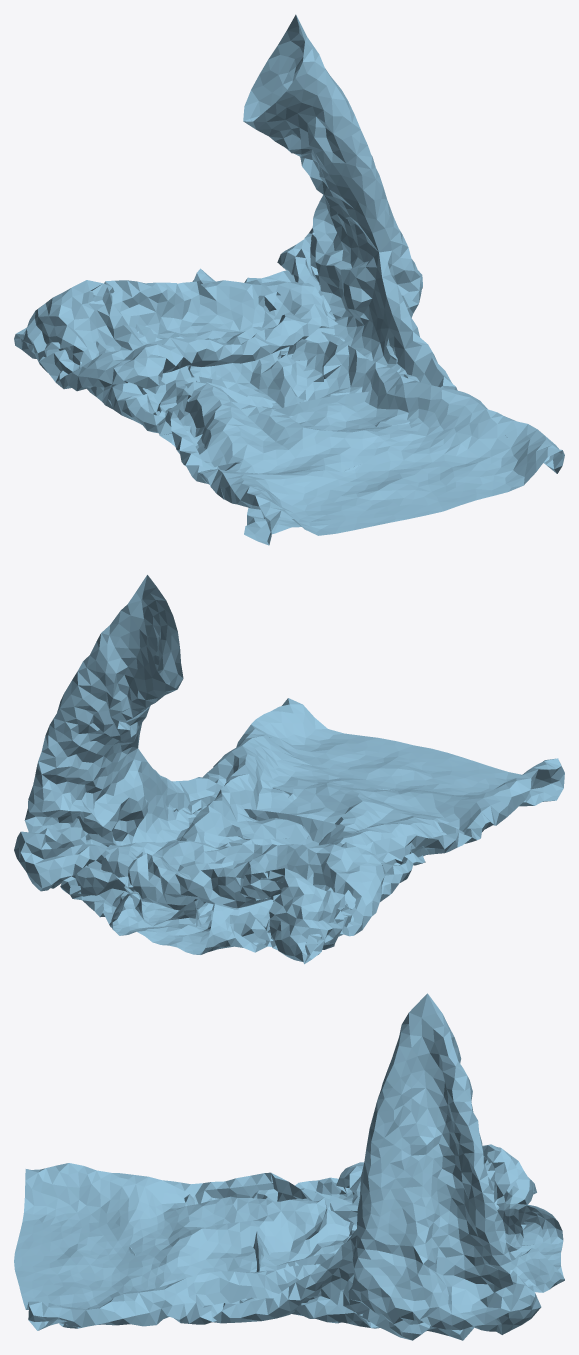
Rendered from frame_11.glb.
3 renders of one model, top to bottom at view 1: azimuth 30°, elevation 25°; view 2: azimuth 150°, elevation 25°; view 3: azimuth 270°, elevation 25°, orthographic. The views are drawn at different scales.
Visible parts, largest first — view 1: frame_11.obj; view 2: frame_11.obj; view 3: frame_11.obj.
Boxes of the visible parts, x1=… form: frame_11.obj: x1=14, y1=14, x2=564, y2=545; frame_11.obj: x1=14, y1=575, x2=564, y2=964; frame_11.obj: x1=14, y1=993, x2=564, y2=1340.
Size of the model in its own units: 1.02 by 0.9003 by 1.43.
